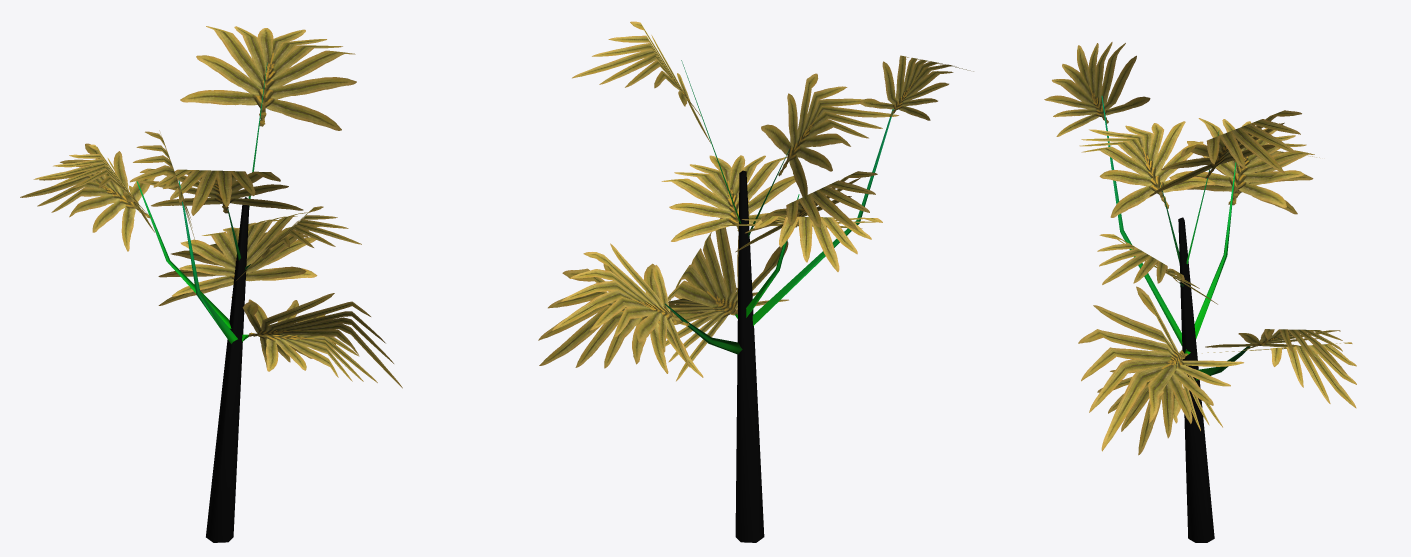
Rendered from SJST01LOD.fbx.
3 renders of one model, left to right at view 1: azimuth 30°, elevation 25°; view 2: azimuth 150°, elevation 25°; view 3: azimuth 270°, elevation 25°, orthographic. The views are drawn at different scales.
Visible parts, largest first — view 1: Tree_2; view 2: Tree_2; view 3: Tree_2.
Boxes of the visible parts, box(x1,y1,x2,y2) form: Tree_2: box(20, 26, 402, 542); Tree_2: box(538, 21, 973, 542); Tree_2: box(1044, 42, 1356, 542).
Size of the model in its own units: 28.02 by 33.4 by 26.09.
